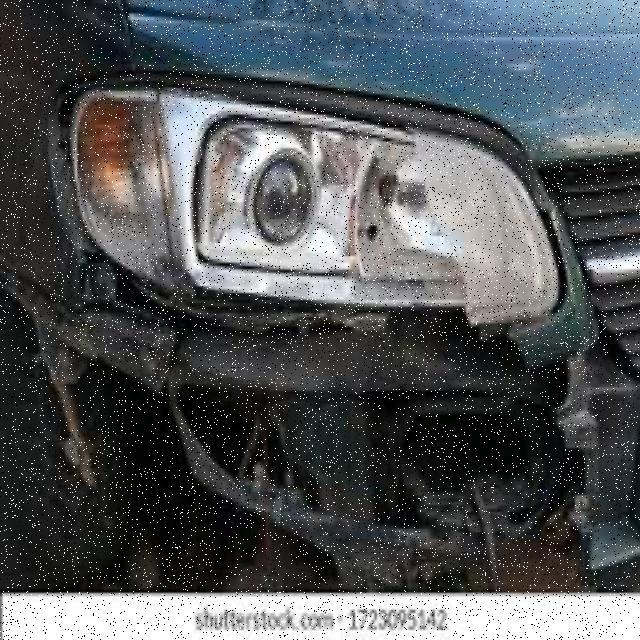Headlight-Damage: (39, 84, 585, 374)
